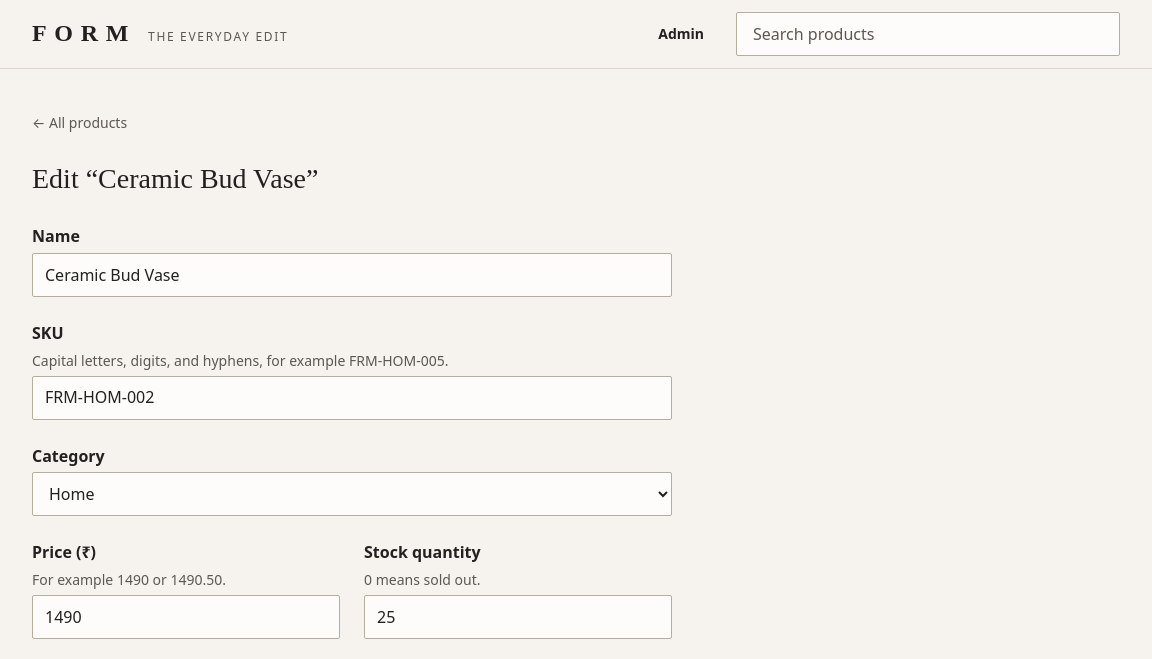
Test case: the admin › sends the version it loaded, and offers the latest version after a conflict
Replace the text in the field labelled "Price (₹)" with "1550": (186, 617) top-left (32, 595), bottom-right (340, 639)
(page scrolled)
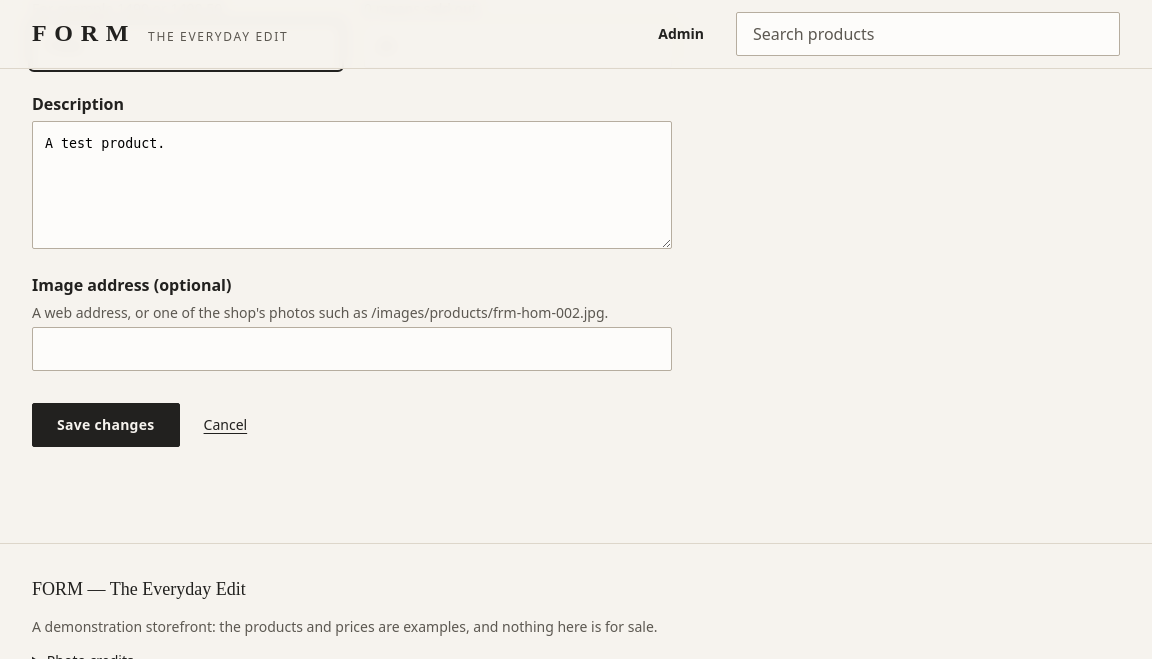
Click the button "Save changes": (106, 425) top-left (32, 403), bottom-right (180, 447)
(page scrolled)
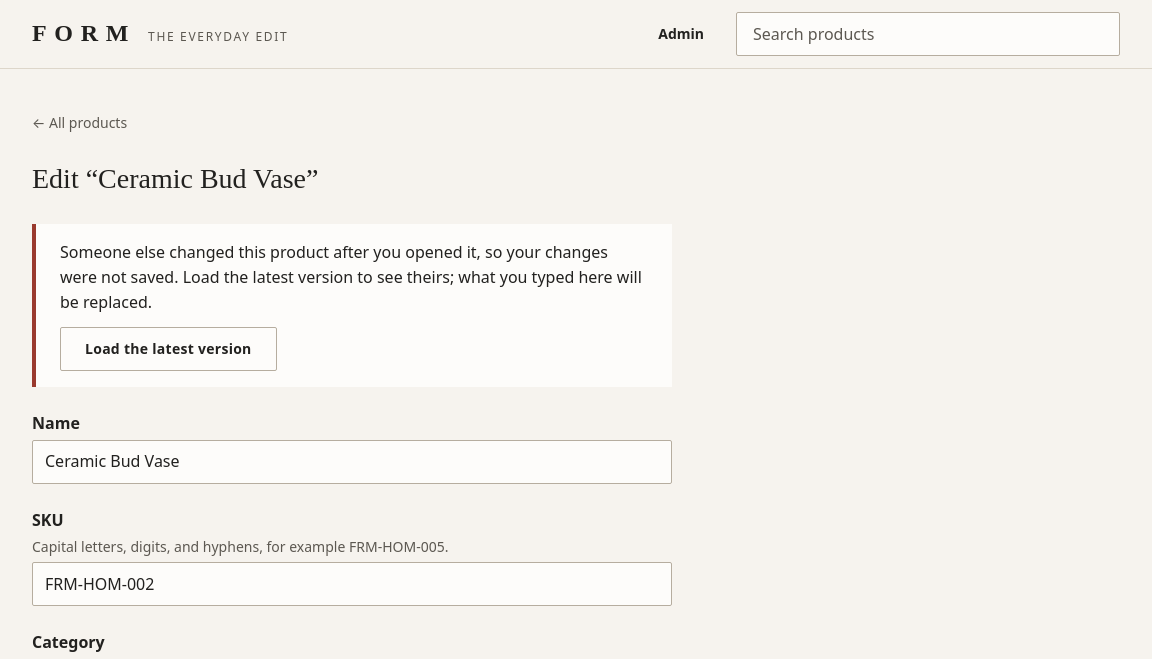
expect the message shows "Someone else changed this product after you opened it": met, box top-left (60, 241), bottom-right (642, 313)
Click the button "Load the latest version": (168, 349) top-left (60, 327), bottom-right (277, 371)
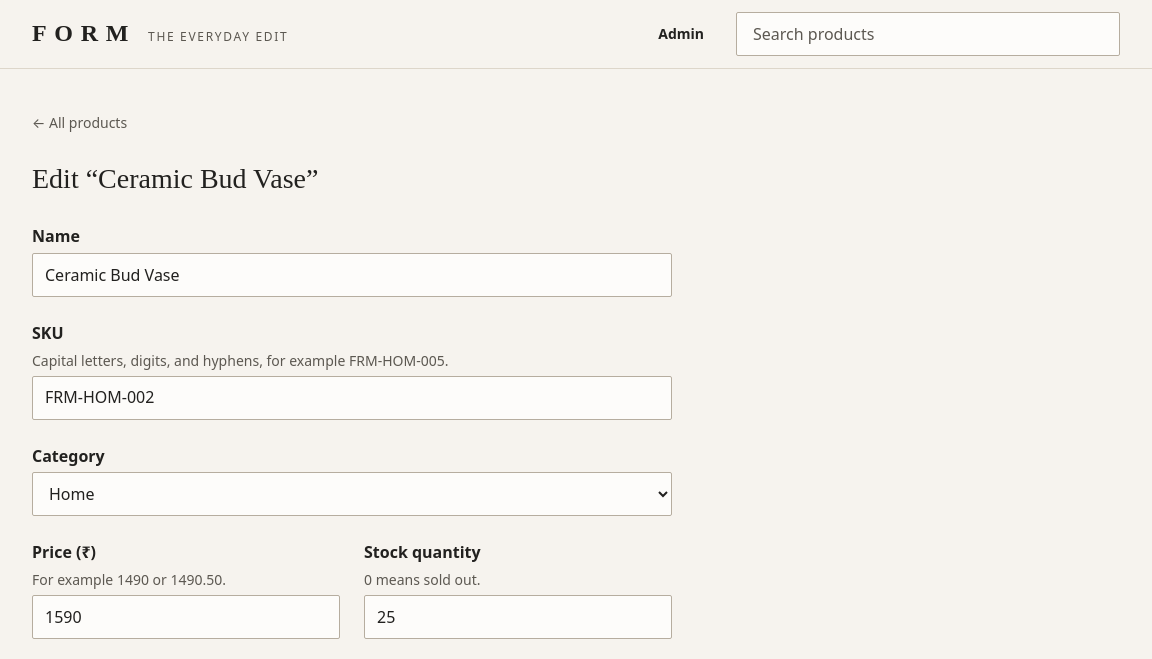
expect the field labelled "Price (₹)" holds "1590": met, box top-left (32, 595), bottom-right (340, 639)
